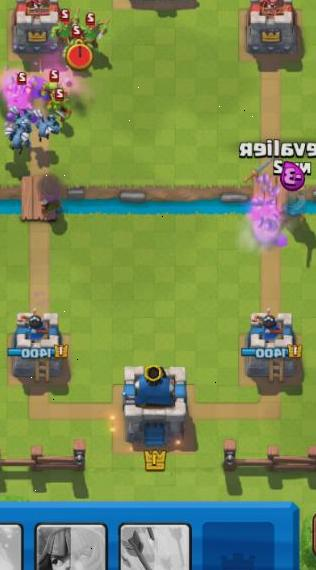enemy_spear_goblins: (81, 12, 110, 51), (43, 89, 73, 121), (51, 9, 77, 44), (39, 72, 66, 102)
player_minions: (3, 112, 36, 150), (35, 110, 66, 140)
